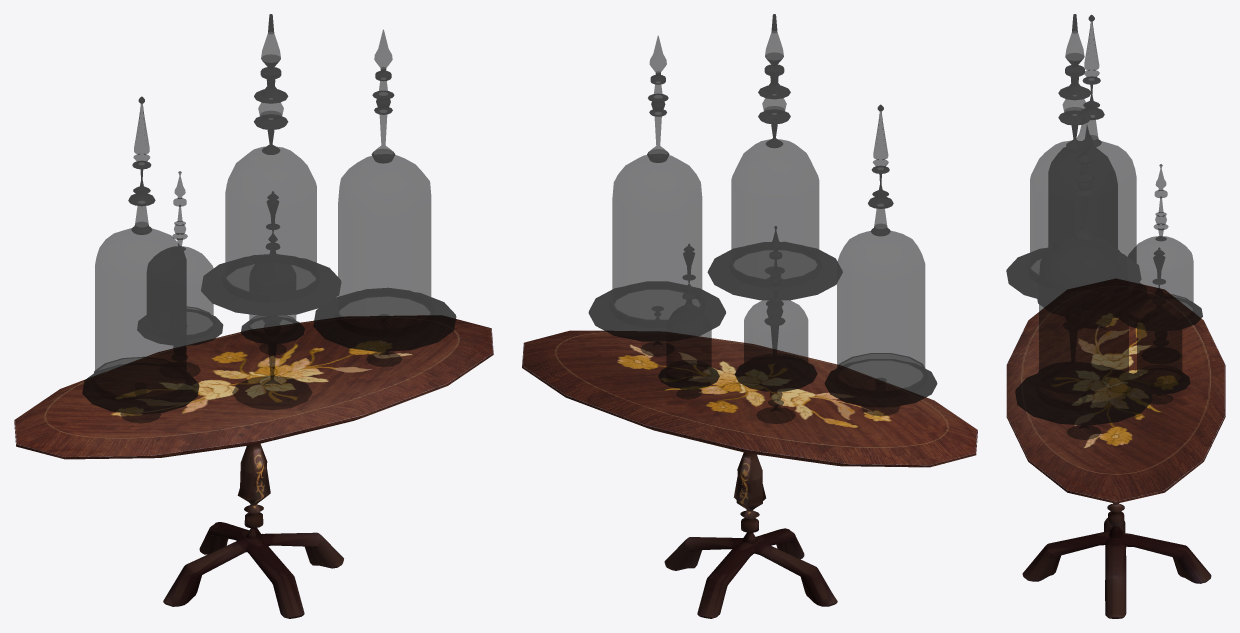
File: Past_BehindDesk.fbx
3 renders of one model, left to right at view 1: azimuth 30°, elevation 25°; view 2: azimuth 150°, elevation 25°; view 3: azimuth 270°, elevation 25°, orthographic. The views are drawn at different scales.
Visible parts, largest first — view 1: Glasscasings, TableBehindDesk; view 2: Glasscasings, TableBehindDesk; view 3: TableBehindDesk, Glasscasings.
Part boxes in pixels (x1,y1,x2,y2): Glasscasings: (82,14,456,423); TableBehindDesk: (14,315,493,618); Glasscasings: (588,14,937,423); TableBehindDesk: (522,330,977,618); TableBehindDesk: (1006,279,1225,618); Glasscasings: (1006,14,1202,439).
Bounding box in the file's own units: 9.35 × 11 × 3.88.
2 materials, 1 textured.
